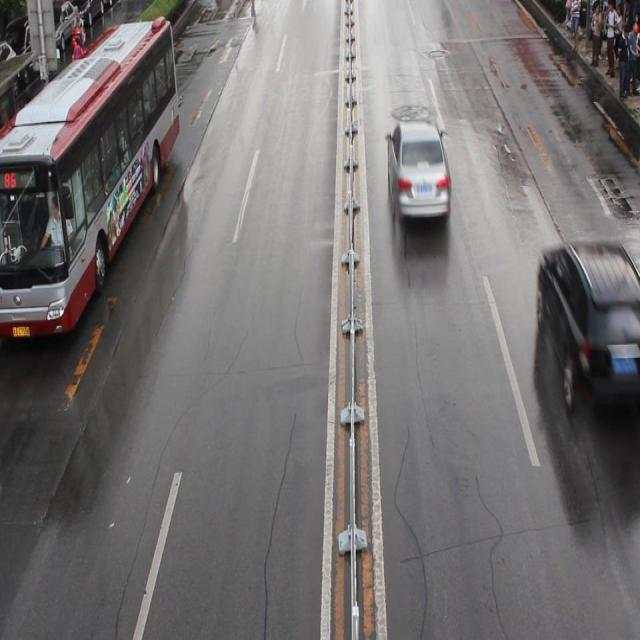car: (536, 240, 640, 410), (387, 124, 449, 220)
van: (1, 16, 179, 340)
